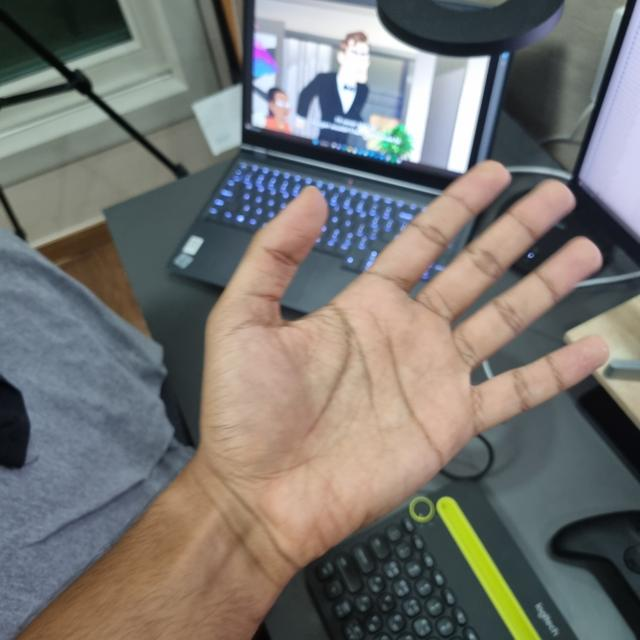Paper: (196, 169, 606, 556)
